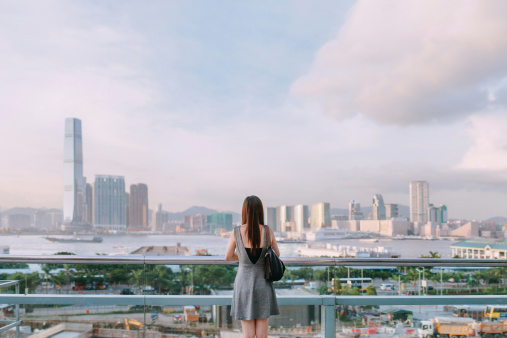em pe: (223, 188, 268, 327)
